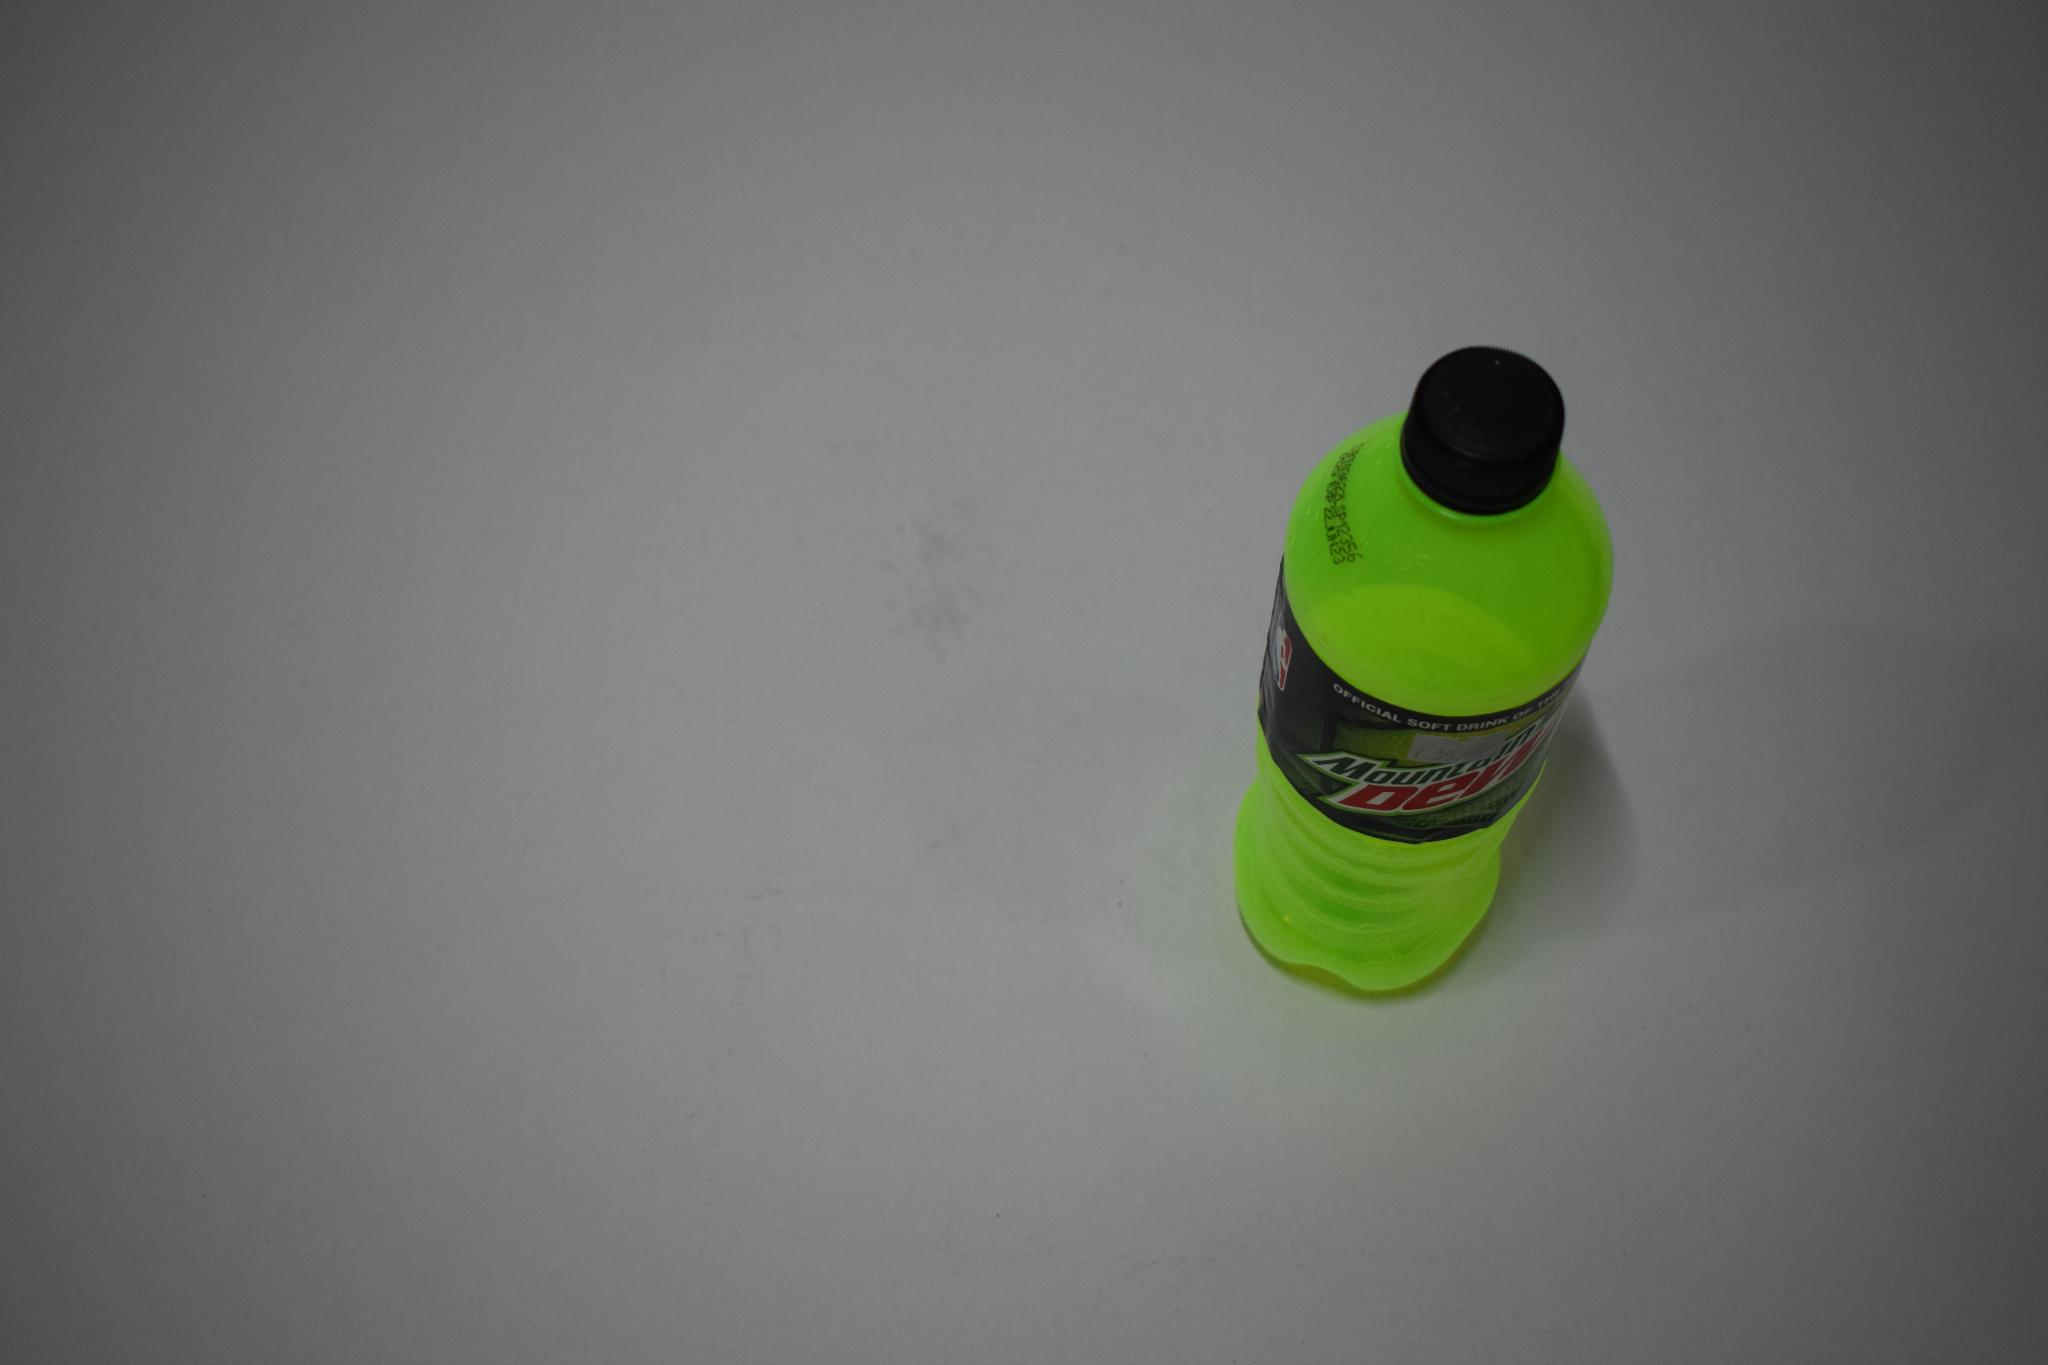bottle: (1221, 334, 1613, 1003)
